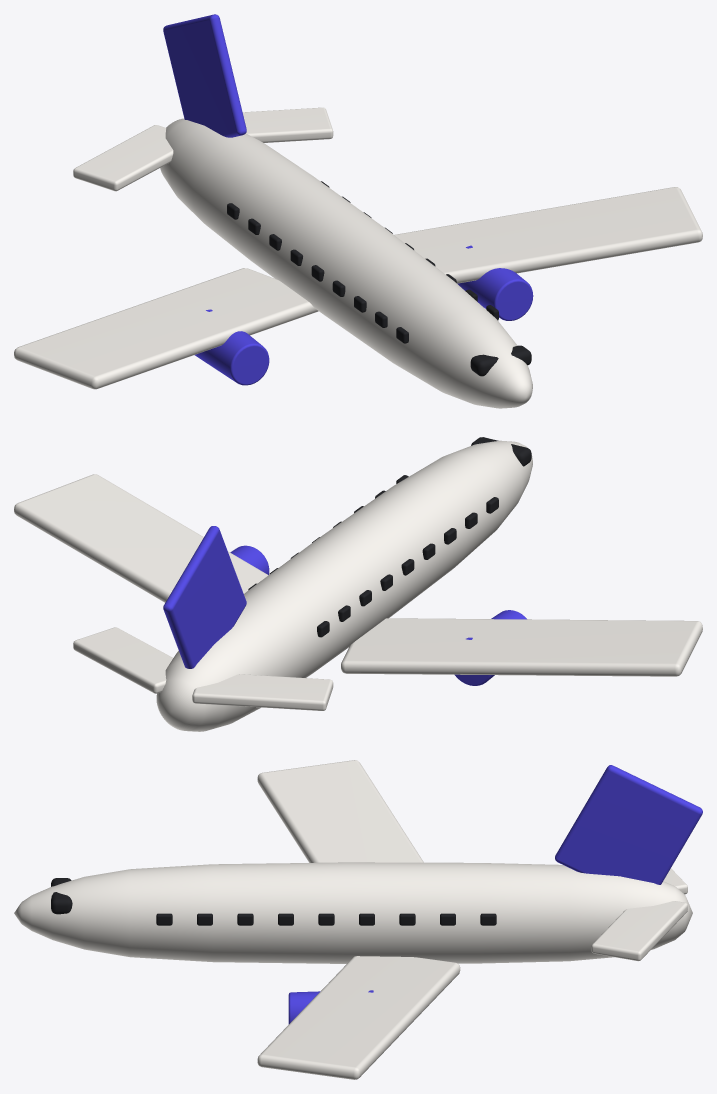
Rendered from hero-plane.glb.
The picture shows the model from 3 angles, top to bottom: view 1: azimuth 30°, elevation 25°; view 2: azimuth 150°, elevation 25°; view 3: azimuth 270°, elevation 25°; orthographic projection. The views are drawn at different scales.
Visible parts, largest first — view 1: Fuselage, Wing, Wing.001, Tail, Stabiliser, Stabiliser.001, Engine, Engine.001, Cockpit; view 2: Fuselage, Wing, Wing.001, Tail, Stabiliser, Stabiliser.001, Engine, Engine.001; view 3: Fuselage, Wing.001, Wing, Tail, Stabiliser.001, Engine.001, Cockpit.
Part boxes in pixels (x1,y1,x2,y2): Fuselage: (160, 118, 532, 408); Wing: (14, 268, 318, 389); Wing.001: (394, 187, 702, 283); Tail: (163, 14, 246, 137); Stabiliser: (73, 125, 173, 191); Stabiliser.001: (242, 107, 333, 142); Engine: (194, 309, 269, 385); Engine.001: (457, 245, 533, 320); Cockpit: (470, 345, 531, 376); Fuselage: (156, 440, 532, 731); Wing: (341, 618, 702, 676); Wing.001: (14, 474, 268, 602); Tail: (163, 526, 246, 668); Stabiliser: (192, 674, 333, 710); Stabiliser.001: (73, 627, 172, 693); Engine: (454, 610, 526, 685); Engine.001: (230, 545, 269, 574); Fuselage: (14, 862, 692, 963); Wing.001: (257, 956, 460, 1079); Wing: (257, 760, 423, 862); Tail: (555, 765, 702, 884); Stabiliser.001: (591, 901, 687, 961); Engine.001: (288, 990, 373, 1024); Cockpit: (51, 878, 72, 914).
Bounding box in the file's own units: 1.36 × 0.4261 × 1.28.
